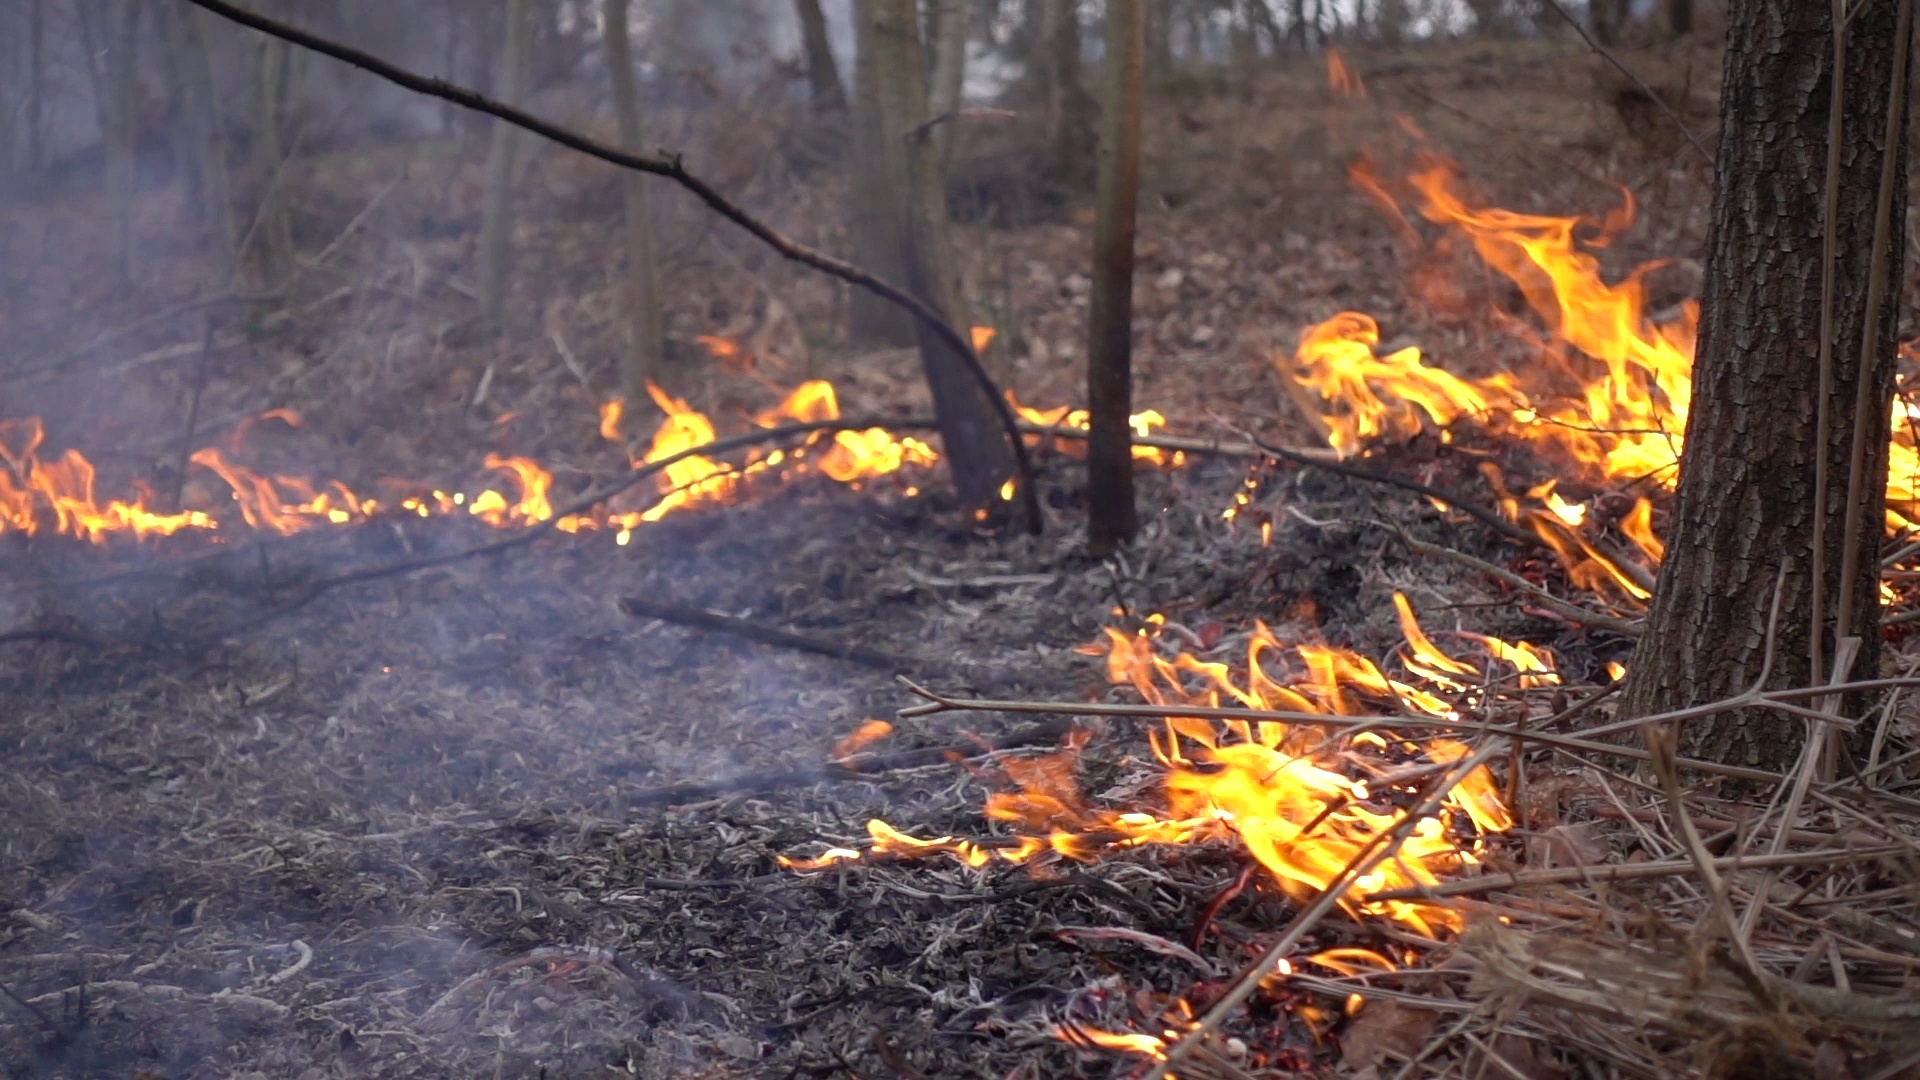fire: (969, 626, 1551, 931), (1302, 183, 1688, 481), (3, 433, 363, 534), (1520, 489, 1662, 604), (757, 392, 931, 473), (621, 396, 721, 506), (1021, 407, 1172, 462), (1884, 396, 1920, 574), (469, 450, 547, 530)
